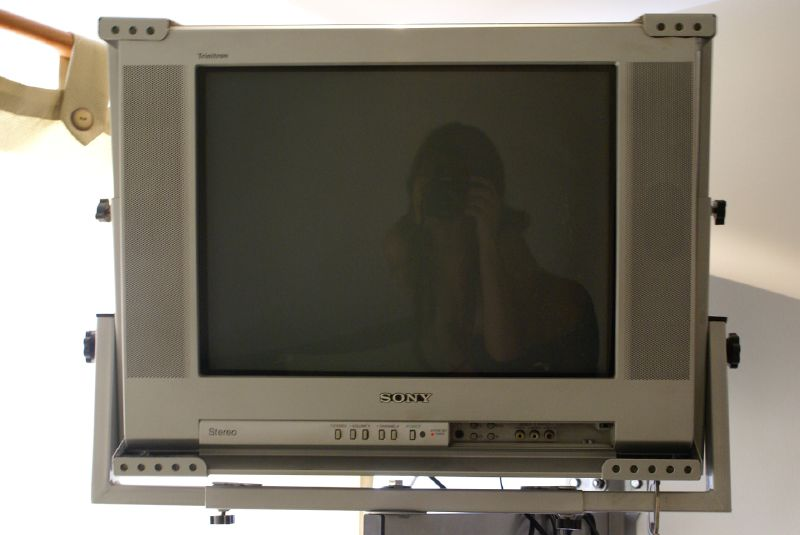tv monitor: (107, 21, 719, 501)
